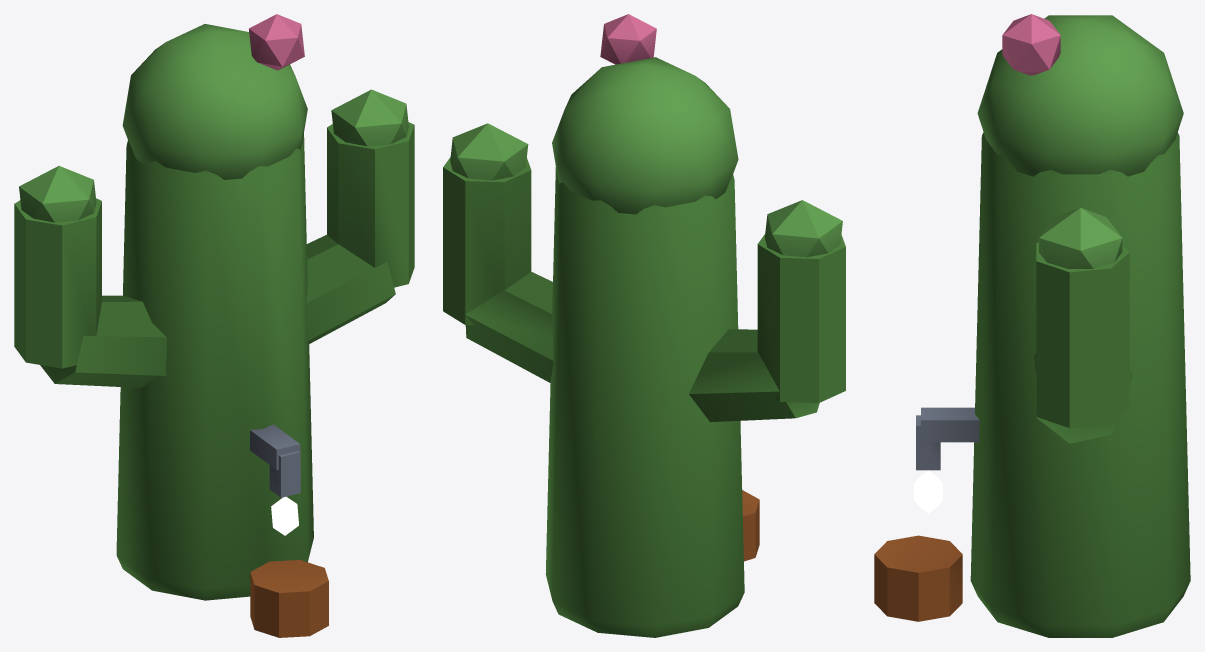
Rendered from n_src_staub.glb.
3 views of the same model, side by side, from view 1: azimuth 30°, elevation 25°; view 2: azimuth 150°, elevation 25°; view 3: azimuth 270°, elevation 25° (orthographic). The views are drawn at different scales.
Parts seen in each view (by area): view 1: body, bob_drop_glow; view 2: body; view 3: body, bob_drop_glow.
Part boxes in pixels (x1,y1,x2,y2): body: [14, 14, 414, 637]; bob_drop_glow: [271, 496, 298, 535]; body: [443, 14, 845, 637]; body: [874, 14, 1190, 637]; bob_drop_glow: [913, 470, 942, 513].
Bounding box in the file's own units: 1.99 × 2.74 × 1.29.
